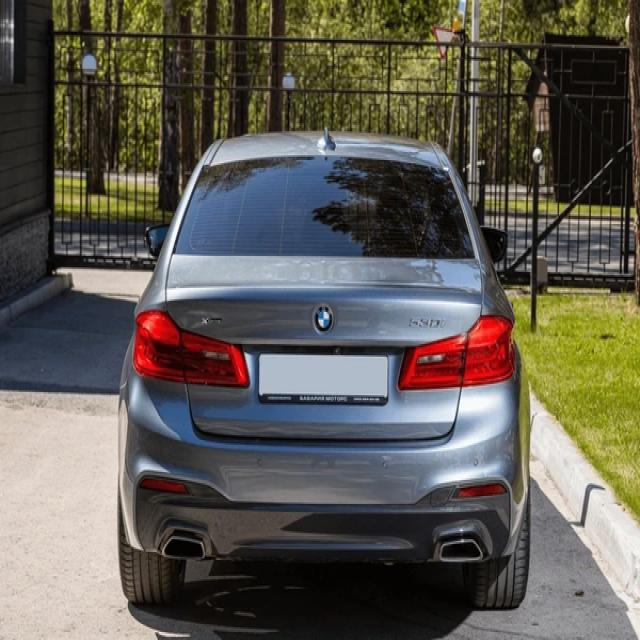bmw: (310, 300, 336, 334)
